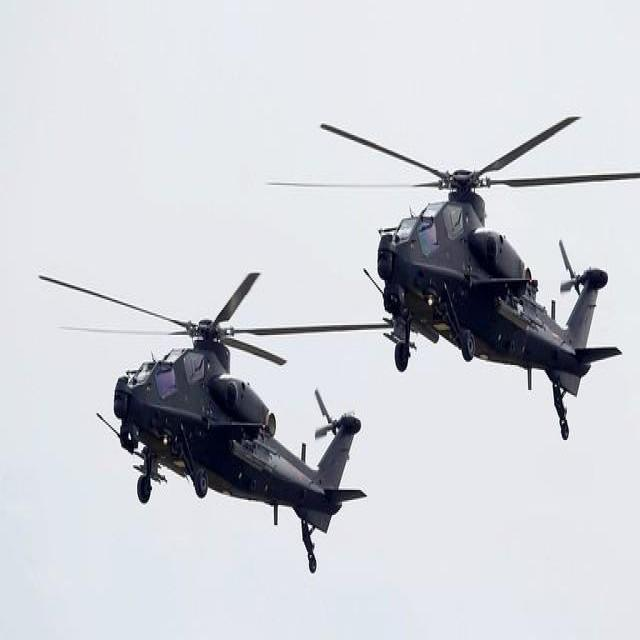MIL_HELO: (260, 102, 631, 449), (40, 232, 398, 582)
